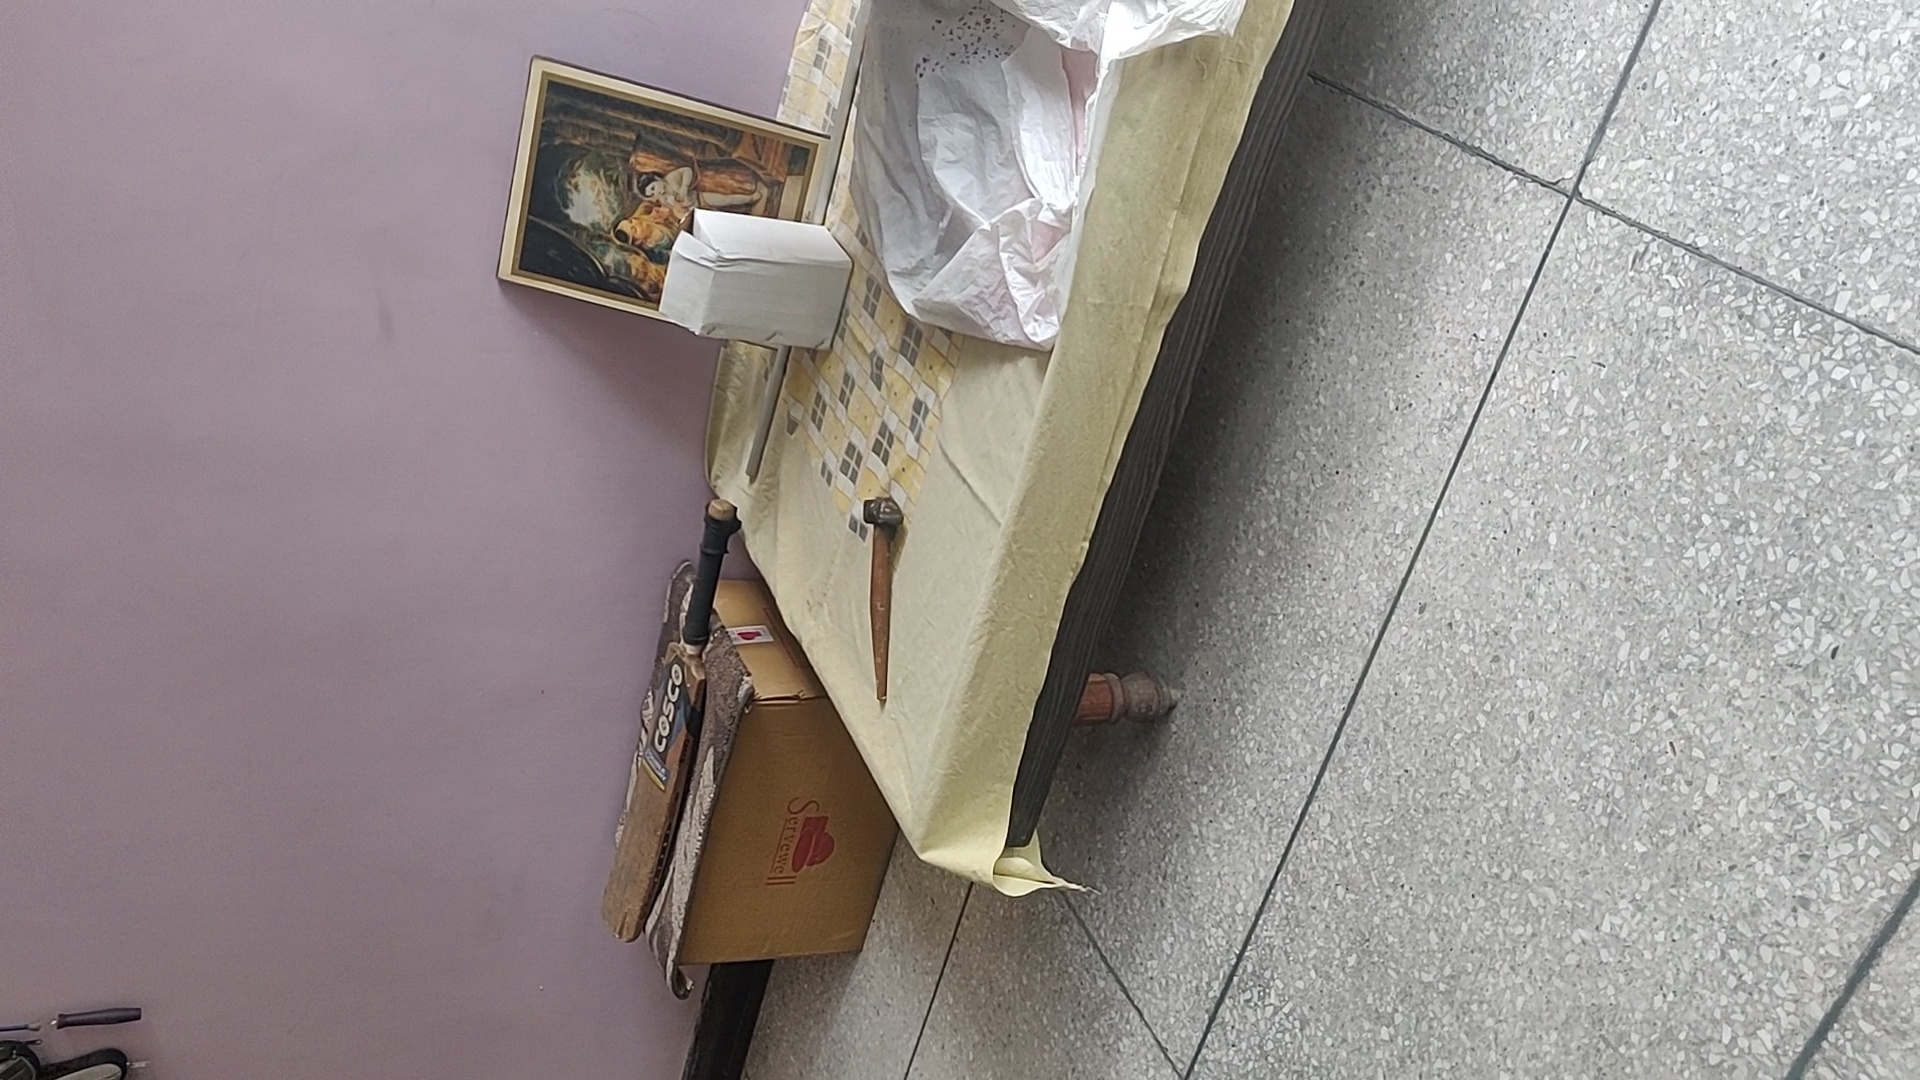hammer: (853, 495, 910, 702)
